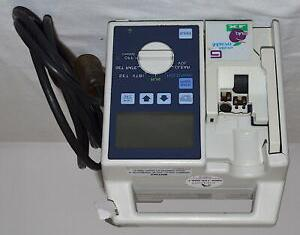plumxl1: (104, 20, 291, 226)
